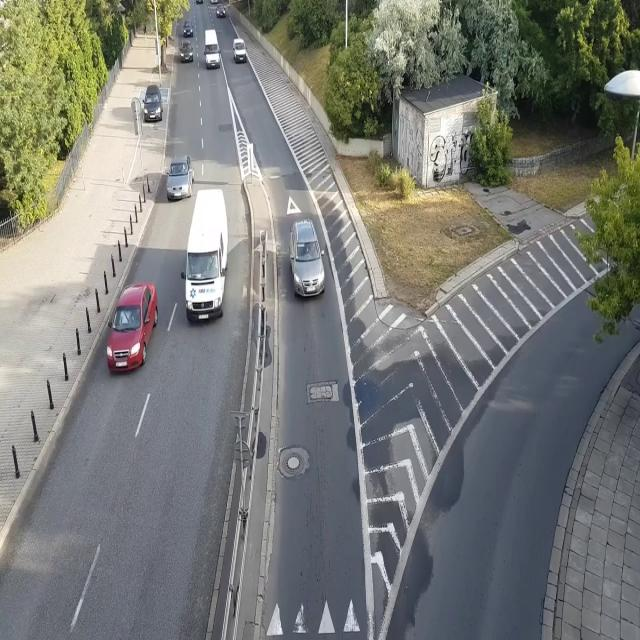car: (106, 279, 160, 375), (288, 218, 327, 298), (165, 152, 195, 203), (141, 83, 164, 123), (179, 39, 194, 63), (182, 18, 194, 38), (216, 3, 226, 18)
van: (180, 188, 228, 324), (204, 29, 221, 70), (232, 38, 246, 63)
